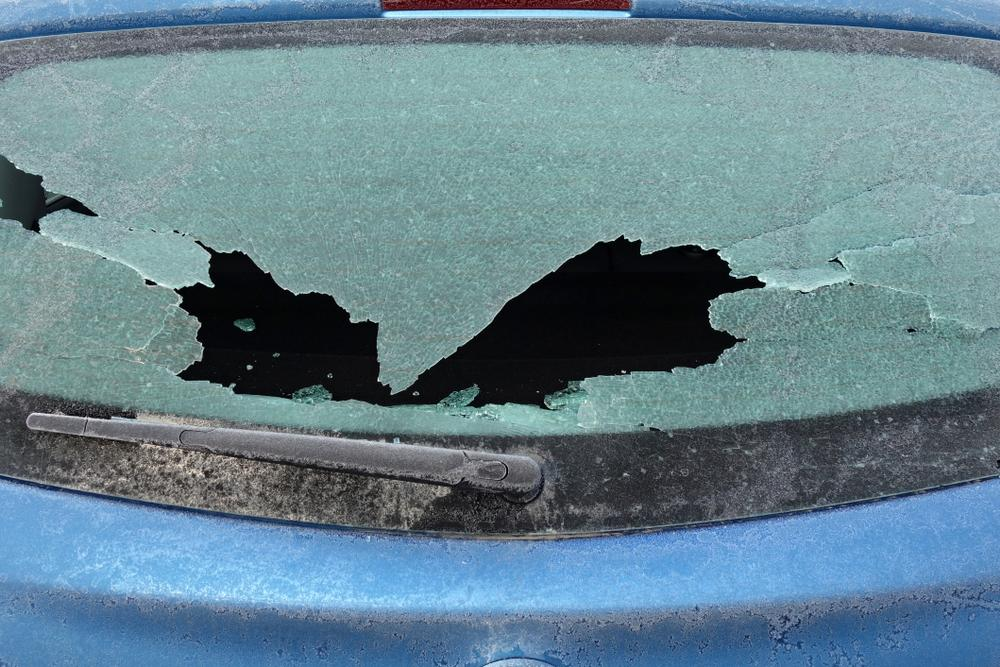glass shatter: (0, 16, 1000, 539)
